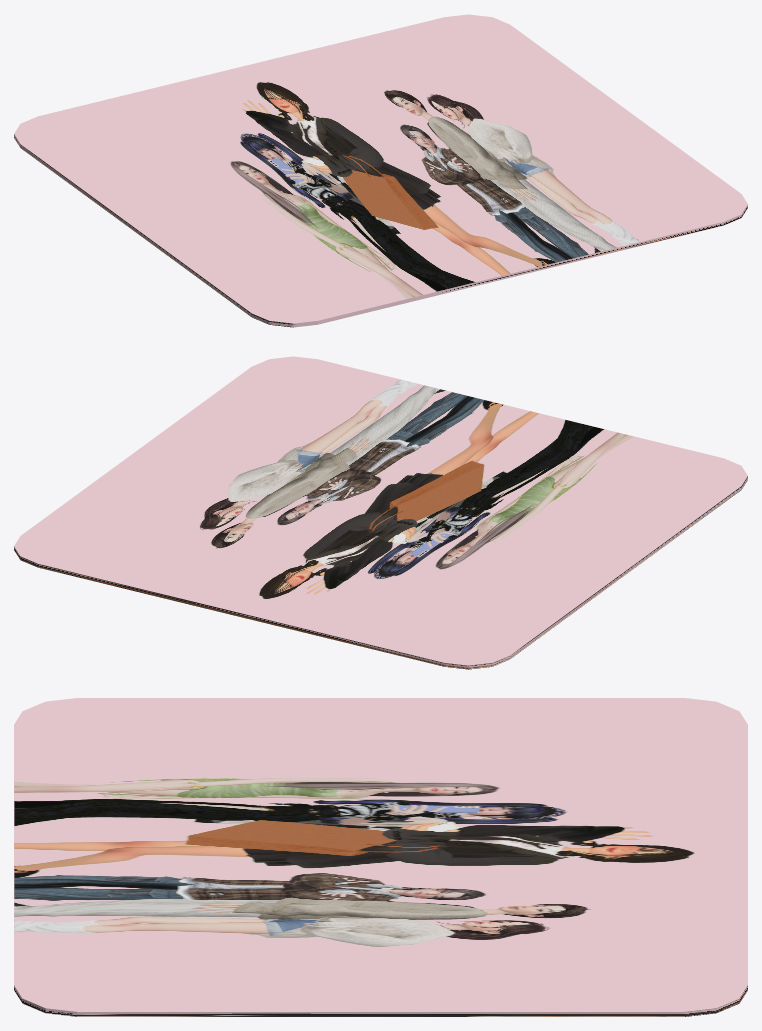
Rendered from carpet_1.fbx.
3 renders of one model, top to bottom at view 1: azimuth 30°, elevation 25°; view 2: azimuth 150°, elevation 25°; view 3: azimuth 270°, elevation 25°, orthographic. The views are drawn at different scales.
Visible parts, largest first — view 1: Cube.025; view 2: Cube.025; view 3: Cube.025.
Boxes of the visible parts, left/top/right/bottom form: Cube.025: left=14, top=14, right=747, bottom=327; Cube.025: left=14, top=356, right=747, bottom=669; Cube.025: left=14, top=698, right=747, bottom=1016.
Bounding box in the file's own units: 143 × 1.09 × 141.
